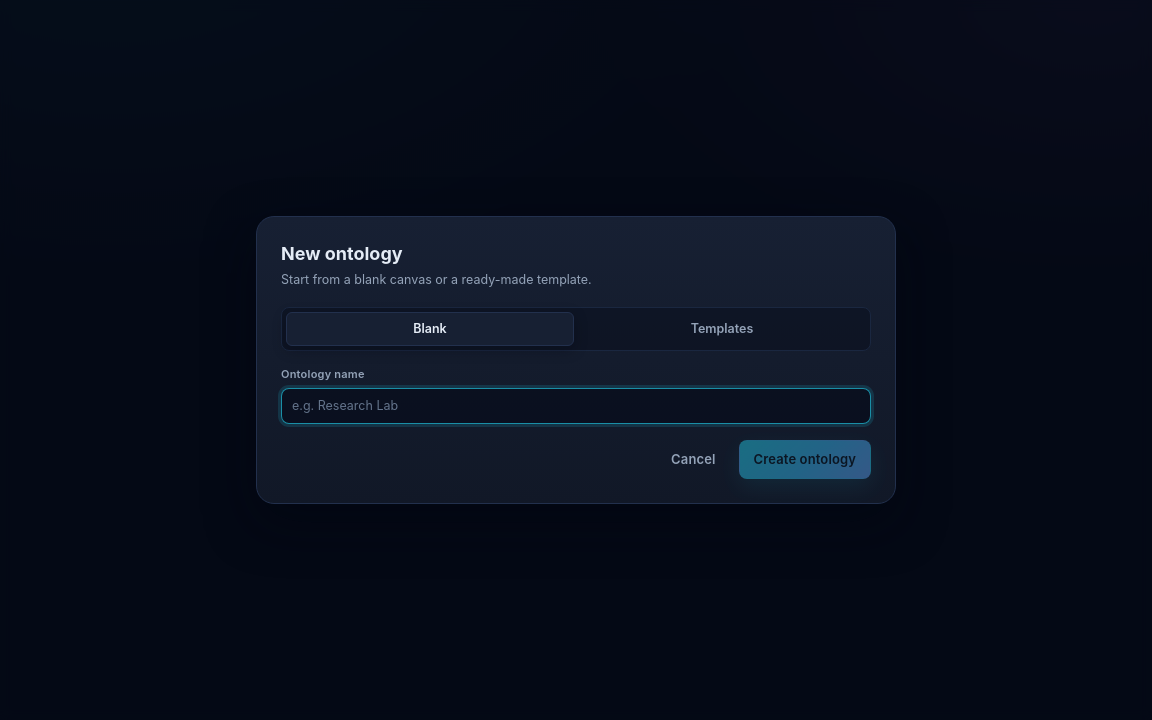
Test: NewOntologyDialog template picker › switches to the templates tab and renders a card per template
Step 1. Click the tab with test id "template-tab-templates" → (722, 329), box [578,312,866,346]
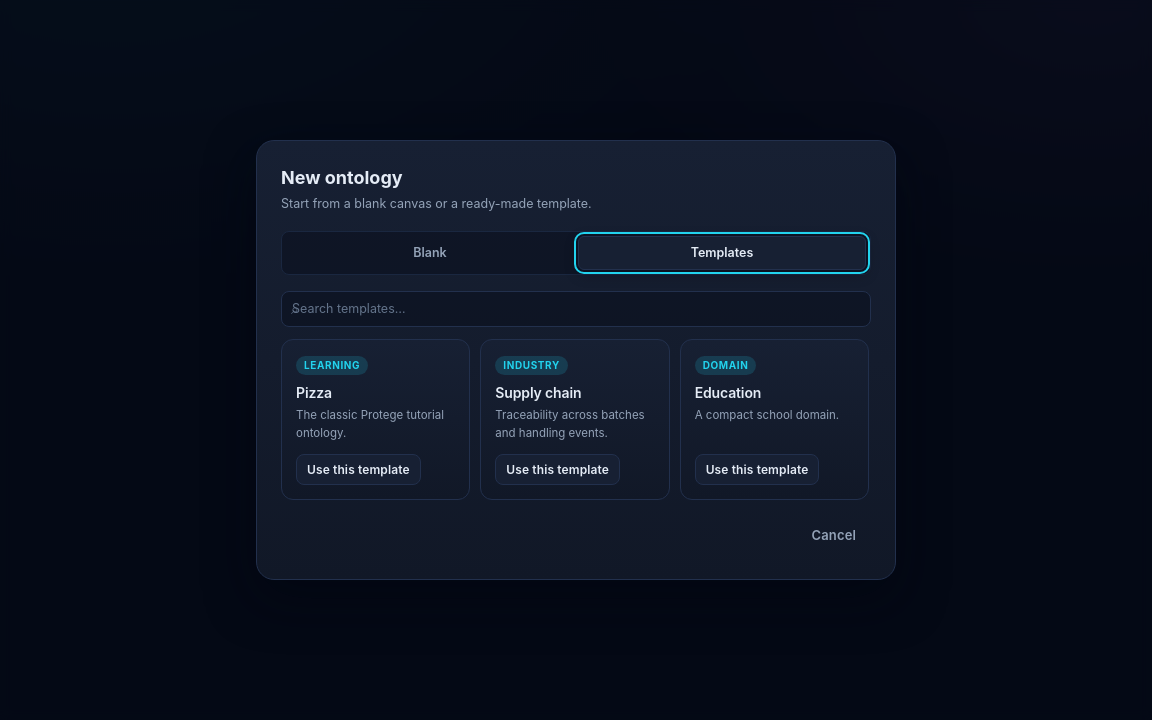
Expected: the element with test id "template-grid" is shown, [281,340,871,500]
Expected: the search field with test id "template-search" is shown, [281,291,871,327]
Expected: the element with test id "template-card-pizza" shows "Pizza", [296,384,332,401]
